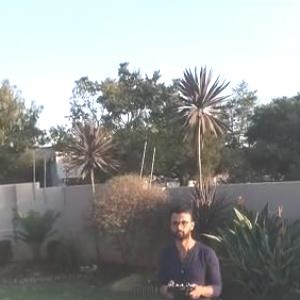follow: (152, 199, 226, 299)
